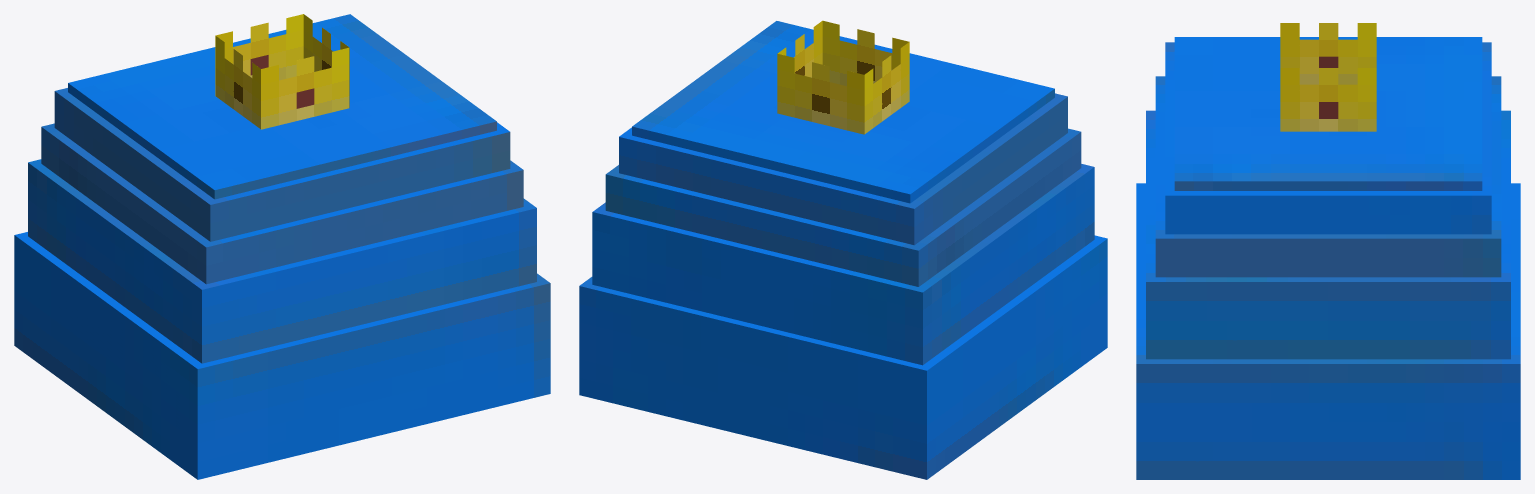
The model's file is terraria-transformed.glb.
3 renders of one model, left to right at view 1: azimuth 30°, elevation 25°; view 2: azimuth 150°, elevation 25°; view 3: azimuth 270°, elevation 25°, orthographic. The views are drawn at different scales.
Visible parts, largest first — view 1: terraria; view 2: terraria; view 3: terraria.
Part boxes in pixels (x1,y1,x2,y2): terraria: (14, 14, 550, 479); terraria: (579, 20, 1107, 479); terraria: (1136, 23, 1520, 479).
Bounding box in the file's own units: 9.42 × 8.38 × 8.48.
1 material, 1 textured.
